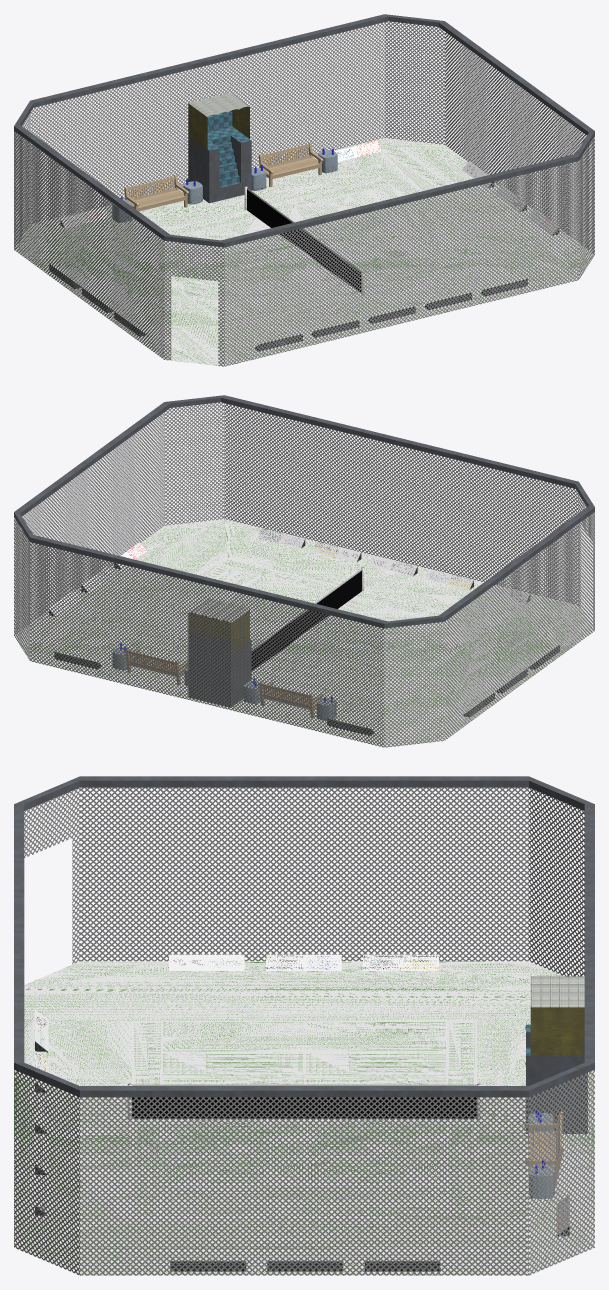
The model's file is teniscourtv1.2.fbx.
3 views of the same model, one above another, from view 1: azimuth 30°, elevation 25°; view 2: azimuth 150°, elevation 25°; view 3: azimuth 270°, elevation 25° (orthographic). The views are drawn at different scales.
Visible parts, largest first — view 1: Component_14_1; view 2: Component_14_1; view 3: Component_14_1.
Boxes of the visible parts, x1=… form: Component_14_1: x1=14, y1=14, x2=594, y2=366; Component_14_1: x1=14, y1=395, x2=594, y2=747; Component_14_1: x1=14, y1=776, x2=594, y2=1275.
Size of the model in its own units: 29.54 by 8.12 by 23.09.
